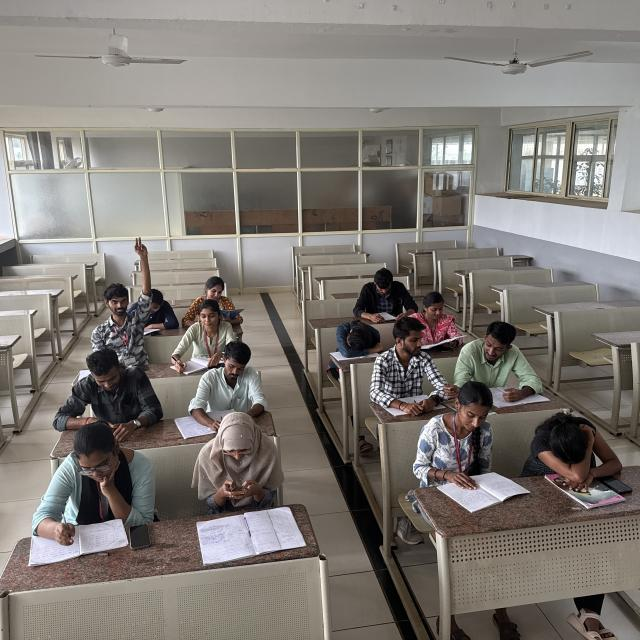Hand Rising: (71, 236, 156, 362)
Reading: (419, 388, 526, 508), (179, 346, 266, 444), (378, 330, 450, 410), (340, 262, 424, 324), (176, 269, 252, 323), (409, 292, 474, 349)
Sleeping: (527, 413, 629, 479), (322, 316, 391, 358)
Using Phone: (183, 419, 307, 505), (57, 352, 153, 431)
Writing: (22, 422, 134, 562), (166, 298, 239, 373), (126, 281, 183, 337)
